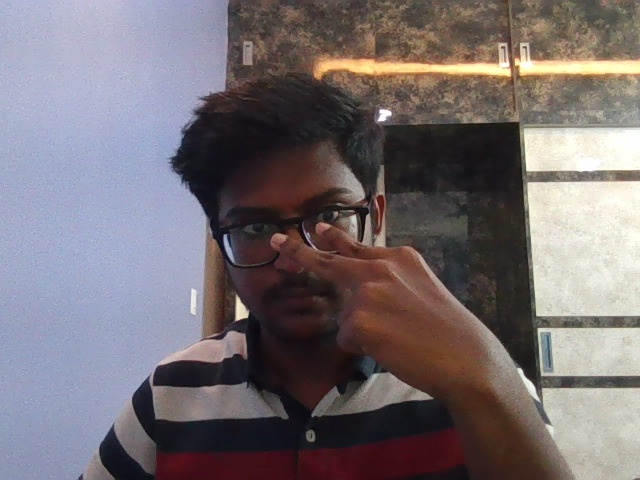see: (269, 210, 493, 401)
